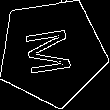M_E: (23, 26, 81, 79)
